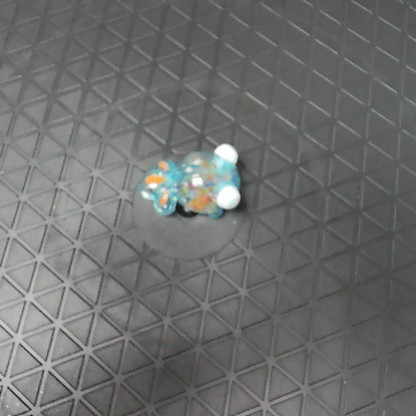bluefish: (136, 144, 247, 219)
